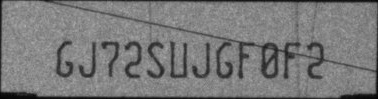0: (261, 42, 279, 78)
2: (306, 40, 323, 79), (125, 40, 142, 78)
7: (101, 40, 119, 77)
F: (238, 40, 257, 78), (282, 42, 301, 79)
G: (215, 40, 233, 79), (56, 40, 74, 77)
J: (192, 42, 211, 78), (78, 40, 95, 77)
S: (147, 41, 164, 78)
U: (169, 40, 188, 78)
